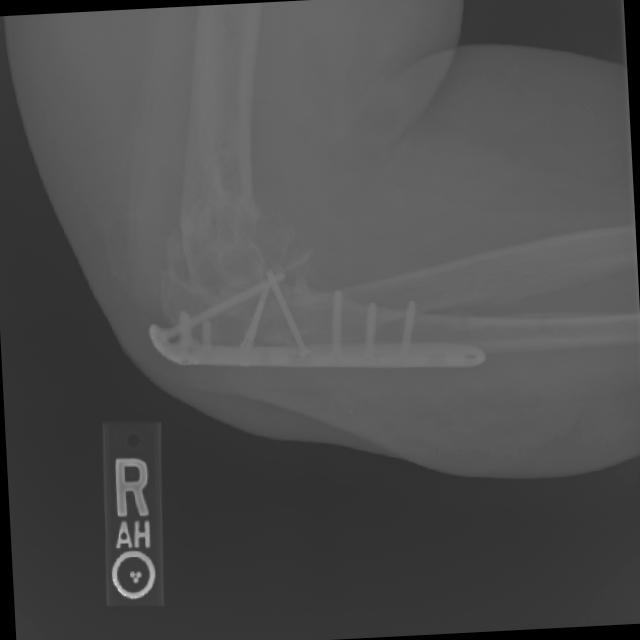elbow positive: (176, 212, 326, 374)
